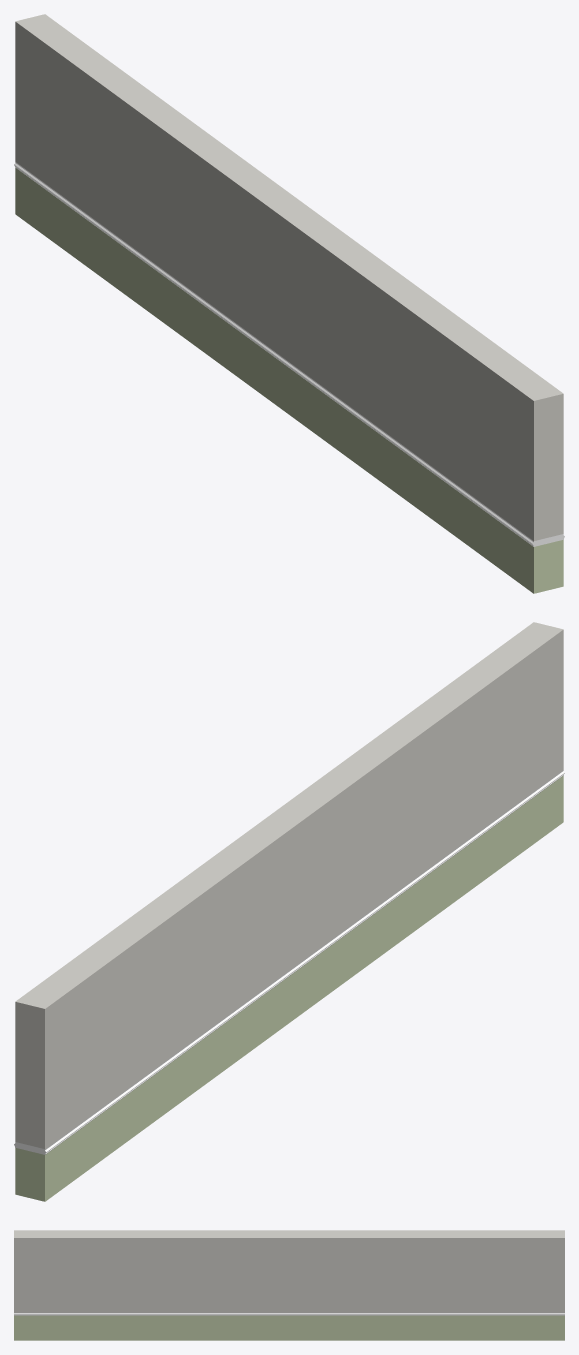
File: wall_main.fbx
3 renders of one model, top to bottom at view 1: azimuth 30°, elevation 25°; view 2: azimuth 150°, elevation 25°; view 3: azimuth 270°, elevation 25°, orthographic. The views are drawn at different scales.
Visible parts, largest first — view 1: Wall_Main; view 2: Wall_Main; view 3: Wall_Main.
Boxes of the visible parts, <box> form: Wall_Main: <box>14,14,564,593</box>; Wall_Main: <box>14,622,564,1201</box>; Wall_Main: <box>14,1230,564,1340</box>.
Size of the model in its own units: 108 by 616 by 3000.
